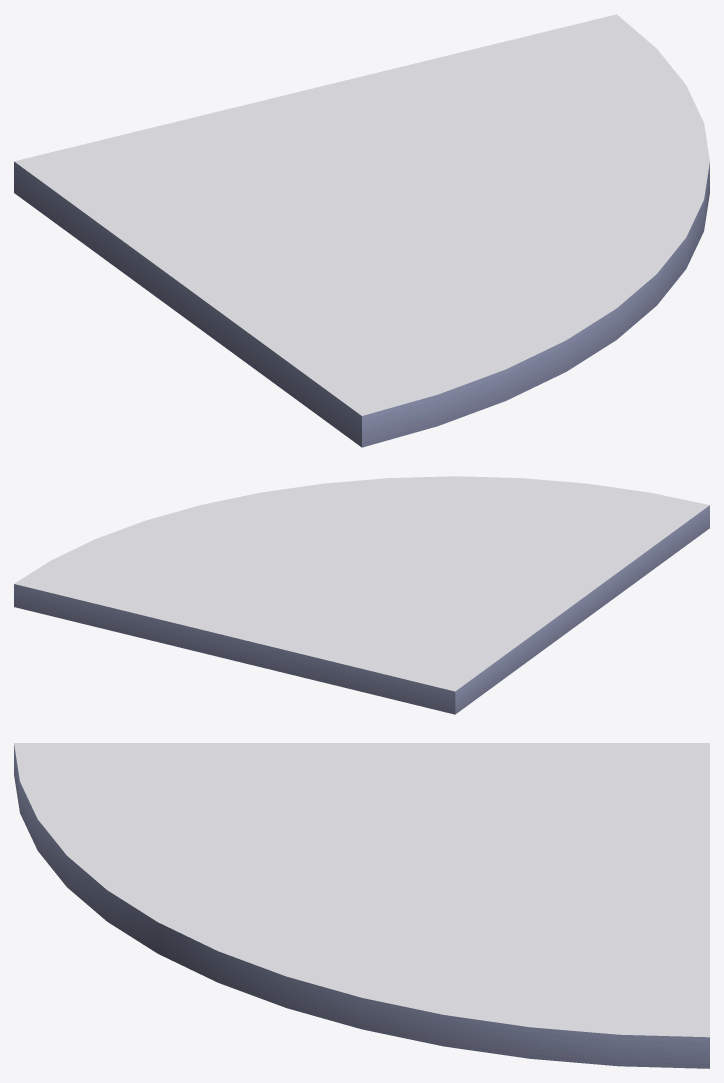
File: floor-corner-round.glb
The picture shows the model from 3 angles, top to bottom: view 1: azimuth 30°, elevation 25°; view 2: azimuth 150°, elevation 25°; view 3: azimuth 270°, elevation 25°; orthographic projection. The views are drawn at different scales.
Visible parts, largest first — view 1: floor-corner-round; view 2: floor-corner-round; view 3: floor-corner-round.
Part boxes in pixels (x1=…): floor-corner-round: x1=14, y1=14, x2=709, y2=447; floor-corner-round: x1=14, y1=476, x2=709, y2=714; floor-corner-round: x1=14, y1=743, x2=709, y2=1068.
Size of the model in its own units: 2 by 0.1001 by 2.
1 material, 1 textured.
